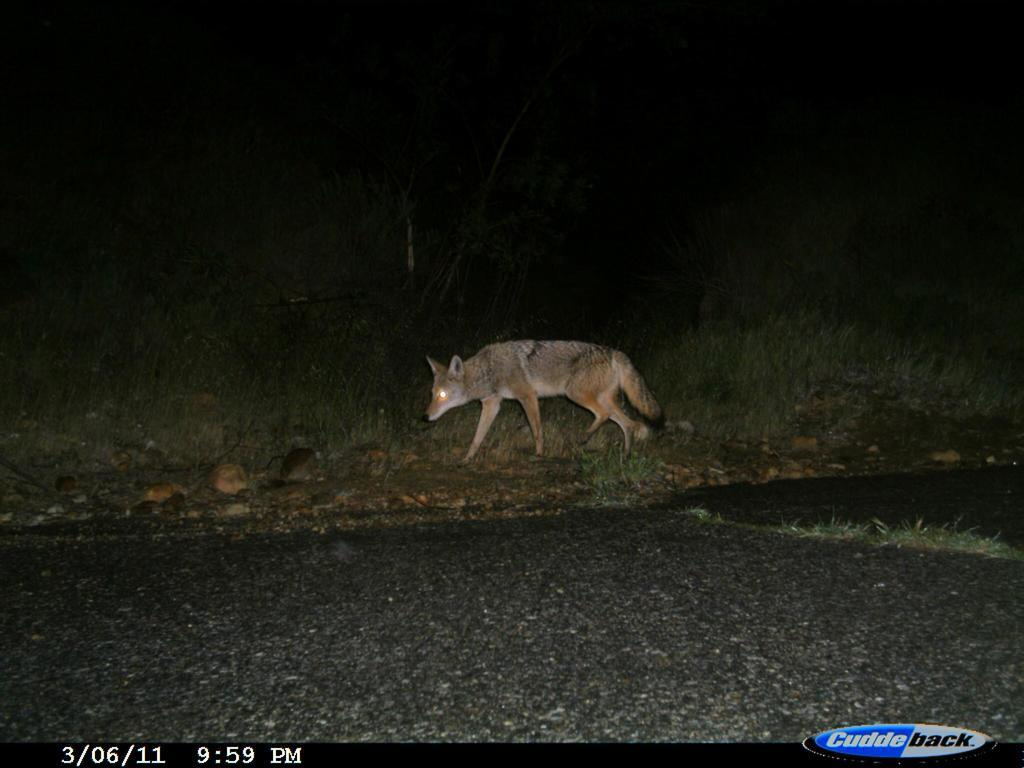coyote: (409, 331, 675, 470)
